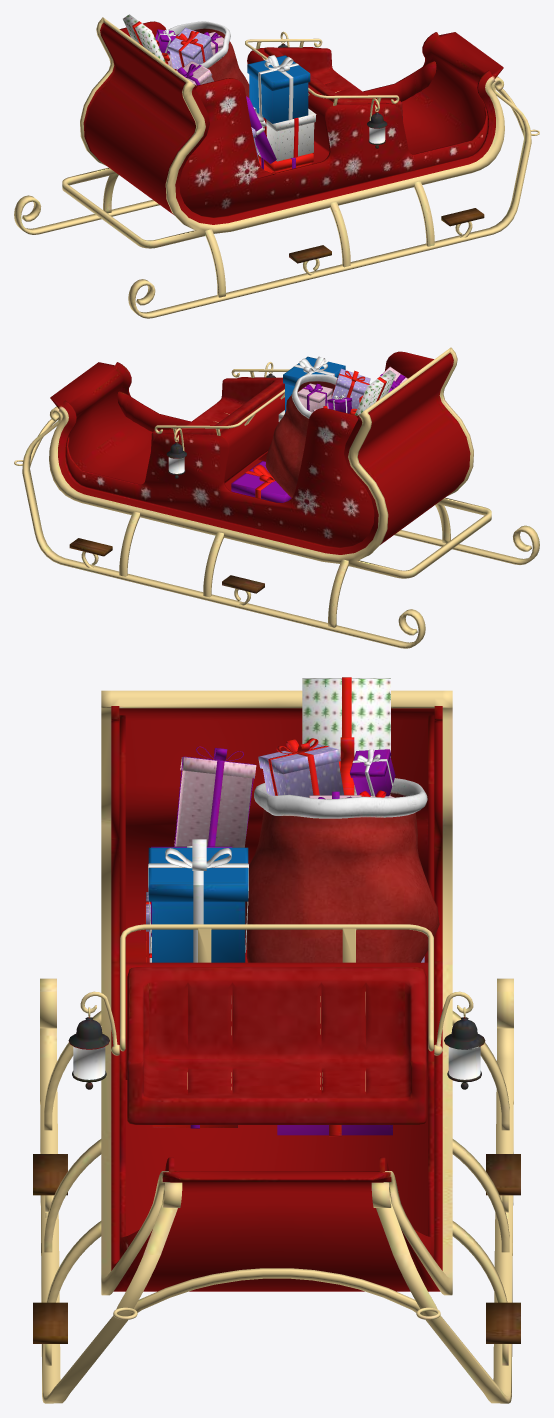
File: sleigh.glb
The picture shows the model from 3 angles, top to bottom: view 1: azimuth 30°, elevation 25°; view 2: azimuth 150°, elevation 25°; view 3: azimuth 270°, elevation 25°; orthographic projection. The views are drawn at different scales.
Visible parts, largest first — view 1: cloth_low_cloth_0; view 2: cloth_low_cloth_0; view 3: cloth_low_cloth_0.
Boxes of the visible parts, <box> form: cloth_low_cloth_0: <box>14,14,539,318</box>; cloth_low_cloth_0: <box>14,347,539,648</box>; cloth_low_cloth_0: <box>33,677,520,1403</box>.
Bounding box in the file's own units: 5.19 × 2.6 × 2.56.
3 materials, 3 textured.
